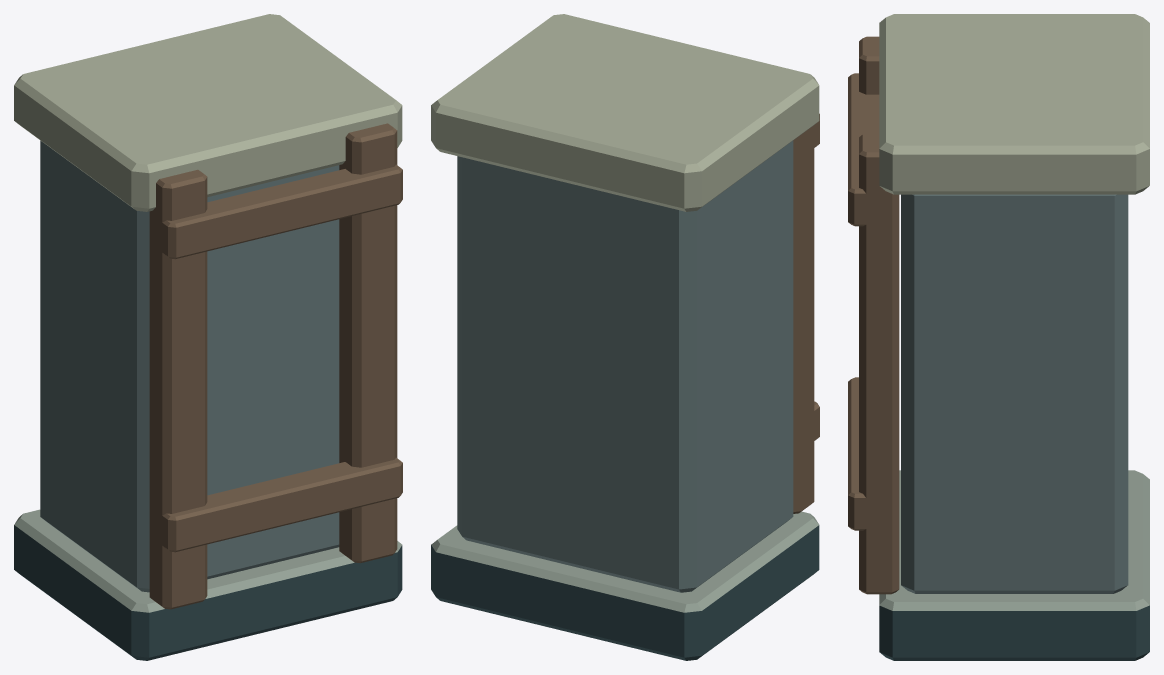
The model's file is wall-end.glb.
The picture shows the model from 3 angles, left to right: view 1: azimuth 30°, elevation 25°; view 2: azimuth 150°, elevation 25°; view 3: azimuth 270°, elevation 25°; orthographic projection. The views are drawn at different scales.
Visible parts, largest first — view 1: wall-end__body; view 2: wall-end__body; view 3: wall-end__body.
Part boxes in pixels (<box>): wall-end__body: <box>14,14,402,660</box>; wall-end__body: <box>431,14,819,660</box>; wall-end__body: <box>848,14,1149,660</box>.
Size of the model in its own units: 0.6 by 1.05 by 0.5575.
